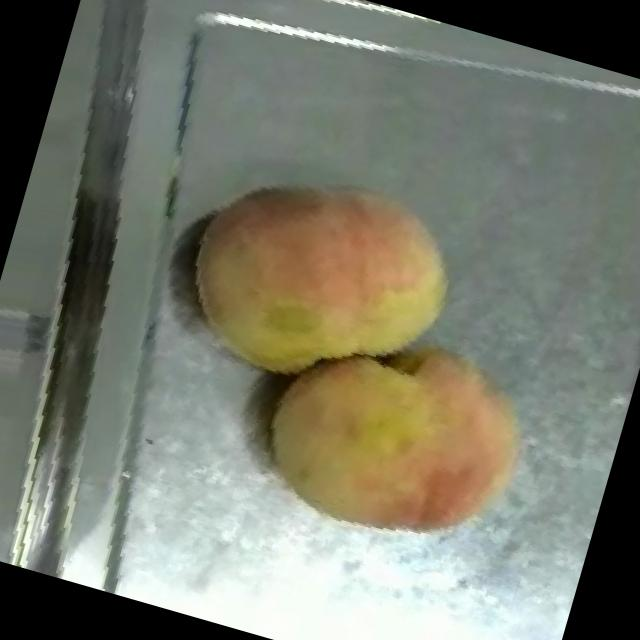Fruit: (152, 125, 494, 438), (226, 285, 568, 591)
